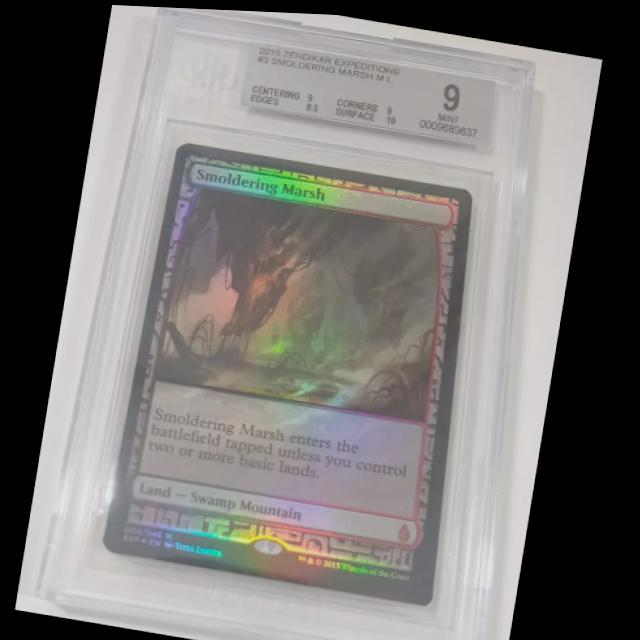bgs_label: (239, 38, 497, 142)
bgs_slab: (50, 6, 537, 640)
card: (105, 139, 475, 602)
